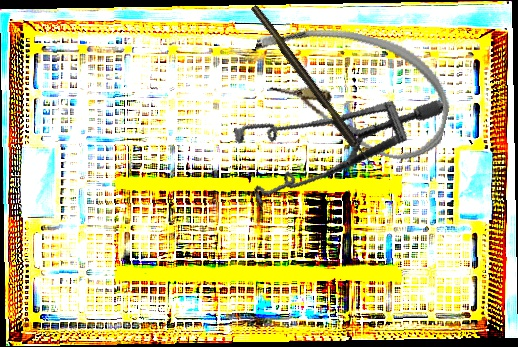Cannula: (237, 10, 462, 169)
Hook Surgical: (249, 3, 377, 172)
Speculum: (215, 46, 446, 247)
